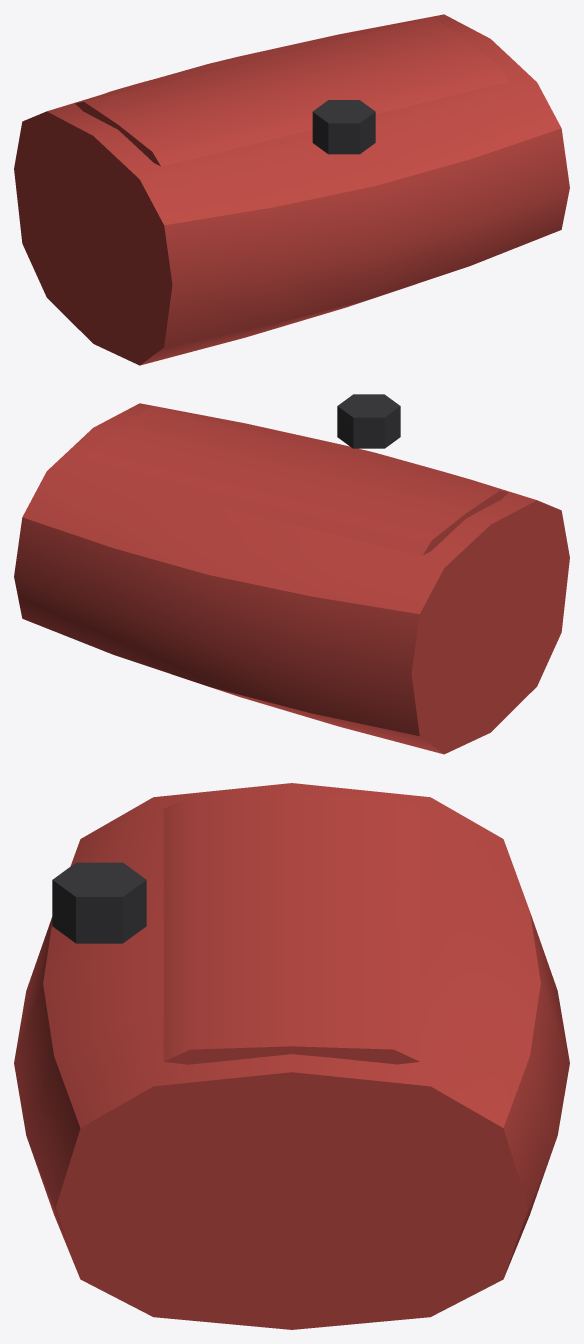
Rendered from rear_tank_lod1.glb.
3 renders of one model, top to bottom at view 1: azimuth 30°, elevation 25°; view 2: azimuth 150°, elevation 25°; view 3: azimuth 270°, elevation 25°, orthographic. The views are drawn at different scales.
Parts seen in each view (by area): view 1: rear_tank_lod1; view 2: rear_tank_lod1; view 3: rear_tank_lod1.
Part boxes in pixels (x1,y1,x2,y2): rear_tank_lod1: (14, 14, 569, 365); rear_tank_lod1: (14, 394, 569, 754); rear_tank_lod1: (14, 783, 569, 1329).
Size of the model in its own units: 0.32 by 0.18 by 0.26.
